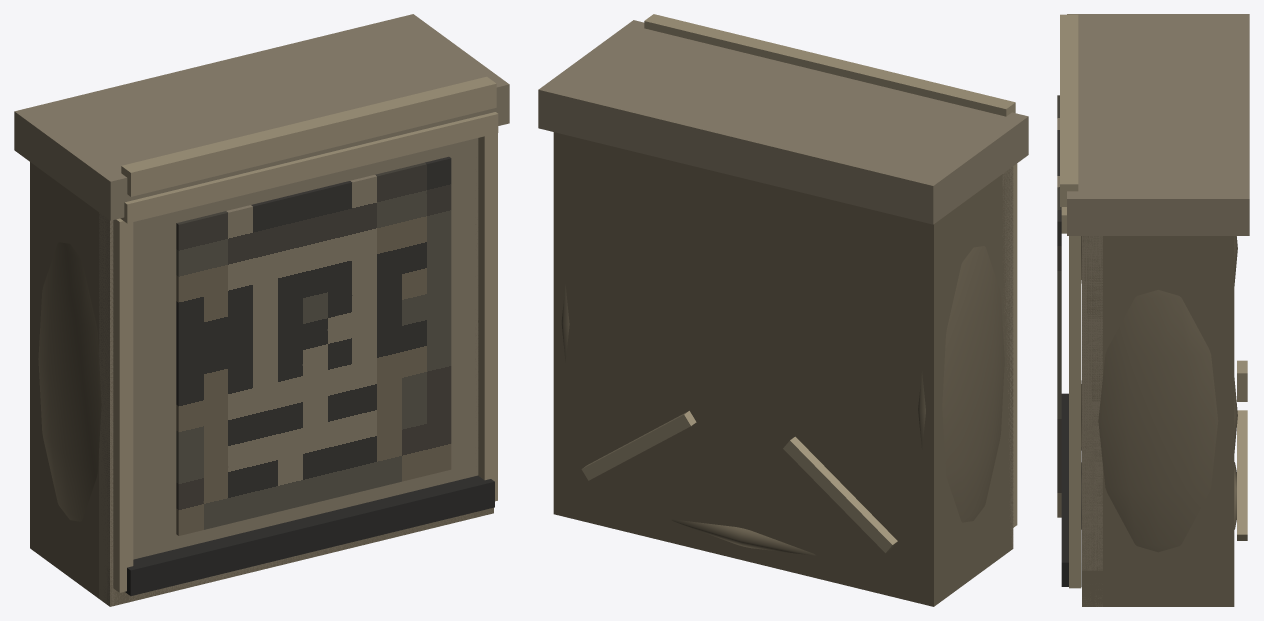
The model's file is CMU3DCMMREExtraCloud.glb.
3 views of the same model, side by side, from view 1: azimuth 30°, elevation 25°; view 2: azimuth 150°, elevation 25°; view 3: azimuth 270°, elevation 25° (orthographic). The views are drawn at different scales.
Parts seen in each view (by area): view 1: original ration printed face, closed folded top, front thick package wall, left full-depth folded side, left rounded flexible gusset, lower horizontal heat-seal, top closure band, upper neck front folded lip, left raised side seam, right raised side seam, closed ration floor, rear thick package wall; view 2: rear thick package wall, closed folded top, left full-depth folded side, left rounded flexible gusset, closed ration floor, top closure band, rear folded diagonal 1, right full-depth folded side, front thick package wall, rear folded diagonal 2, left raised side seam, soft rounded lower gusset; view 3: closed folded top, right rounded flexible gusset, right full-depth folded side, rear thick package wall, front thick package wall, closed ration floor, right raised side seam, top closure band, original ration printed face, lower horizontal heat-seal, rear folded diagonal 2, rear folded diagonal 1.
Part boxes in pixels (bbox=[...]): original ration printed face: bbox=[176, 156, 451, 535]; closed folded top: bbox=[14, 14, 509, 220]; front thick package wall: bbox=[99, 138, 493, 606]; left full-depth folded side: bbox=[30, 162, 128, 605]; left rounded flexible gusset: bbox=[38, 242, 101, 521]; lower horizontal heat-seal: bbox=[125, 475, 494, 595]; top closure band: bbox=[121, 76, 496, 196]; upper neck front folded lip: bbox=[120, 112, 498, 223]; left raised side seam: bbox=[113, 218, 133, 592]; right raised side seam: bbox=[478, 133, 497, 501]; closed ration floor: bbox=[30, 508, 493, 606]; rear thick package wall: bbox=[30, 162, 40, 551]; rear thick package wall: bbox=[553, 132, 944, 605]; closed folded top: bbox=[538, 20, 1028, 224]; left full-depth folded side: bbox=[915, 167, 1013, 605]; left rounded flexible gusset: bbox=[918, 246, 1004, 522]; closed ration floor: bbox=[553, 476, 1013, 606]; top closure band: bbox=[644, 14, 1015, 116]; rear folded diagonal 1: bbox=[783, 436, 897, 553]; right full-depth folded side: bbox=[553, 133, 571, 514]; front thick package wall: bbox=[1002, 166, 1013, 547]; rear folded diagonal 2: bbox=[581, 410, 696, 480]; left raised side seam: bbox=[1013, 163, 1017, 527]; soft rounded lower gusset: bbox=[672, 519, 815, 555]; closed folded top: bbox=[1067, 14, 1249, 235]; right rounded flexible gusset: bbox=[1081, 290, 1237, 552]; right full-depth folded side: bbox=[1082, 236, 1234, 606]; rear thick package wall: bbox=[1213, 236, 1234, 606]; front thick package wall: bbox=[1082, 236, 1102, 606]; closed ration floor: bbox=[1082, 570, 1234, 606]; right raised side seam: bbox=[1069, 236, 1081, 588]; top closure band: bbox=[1060, 14, 1078, 206]; original ration printed face: bbox=[1057, 95, 1061, 517]; lower horizontal heat-seal: bbox=[1061, 393, 1081, 586]; rear folded diagonal 2: bbox=[1237, 410, 1247, 540]; rear folded diagonal 1: bbox=[1237, 360, 1247, 401].
Size of what is drawn, in the model's own units: 0.503 by 0.5305 by 0.221.
5 materials, 1 textured.
